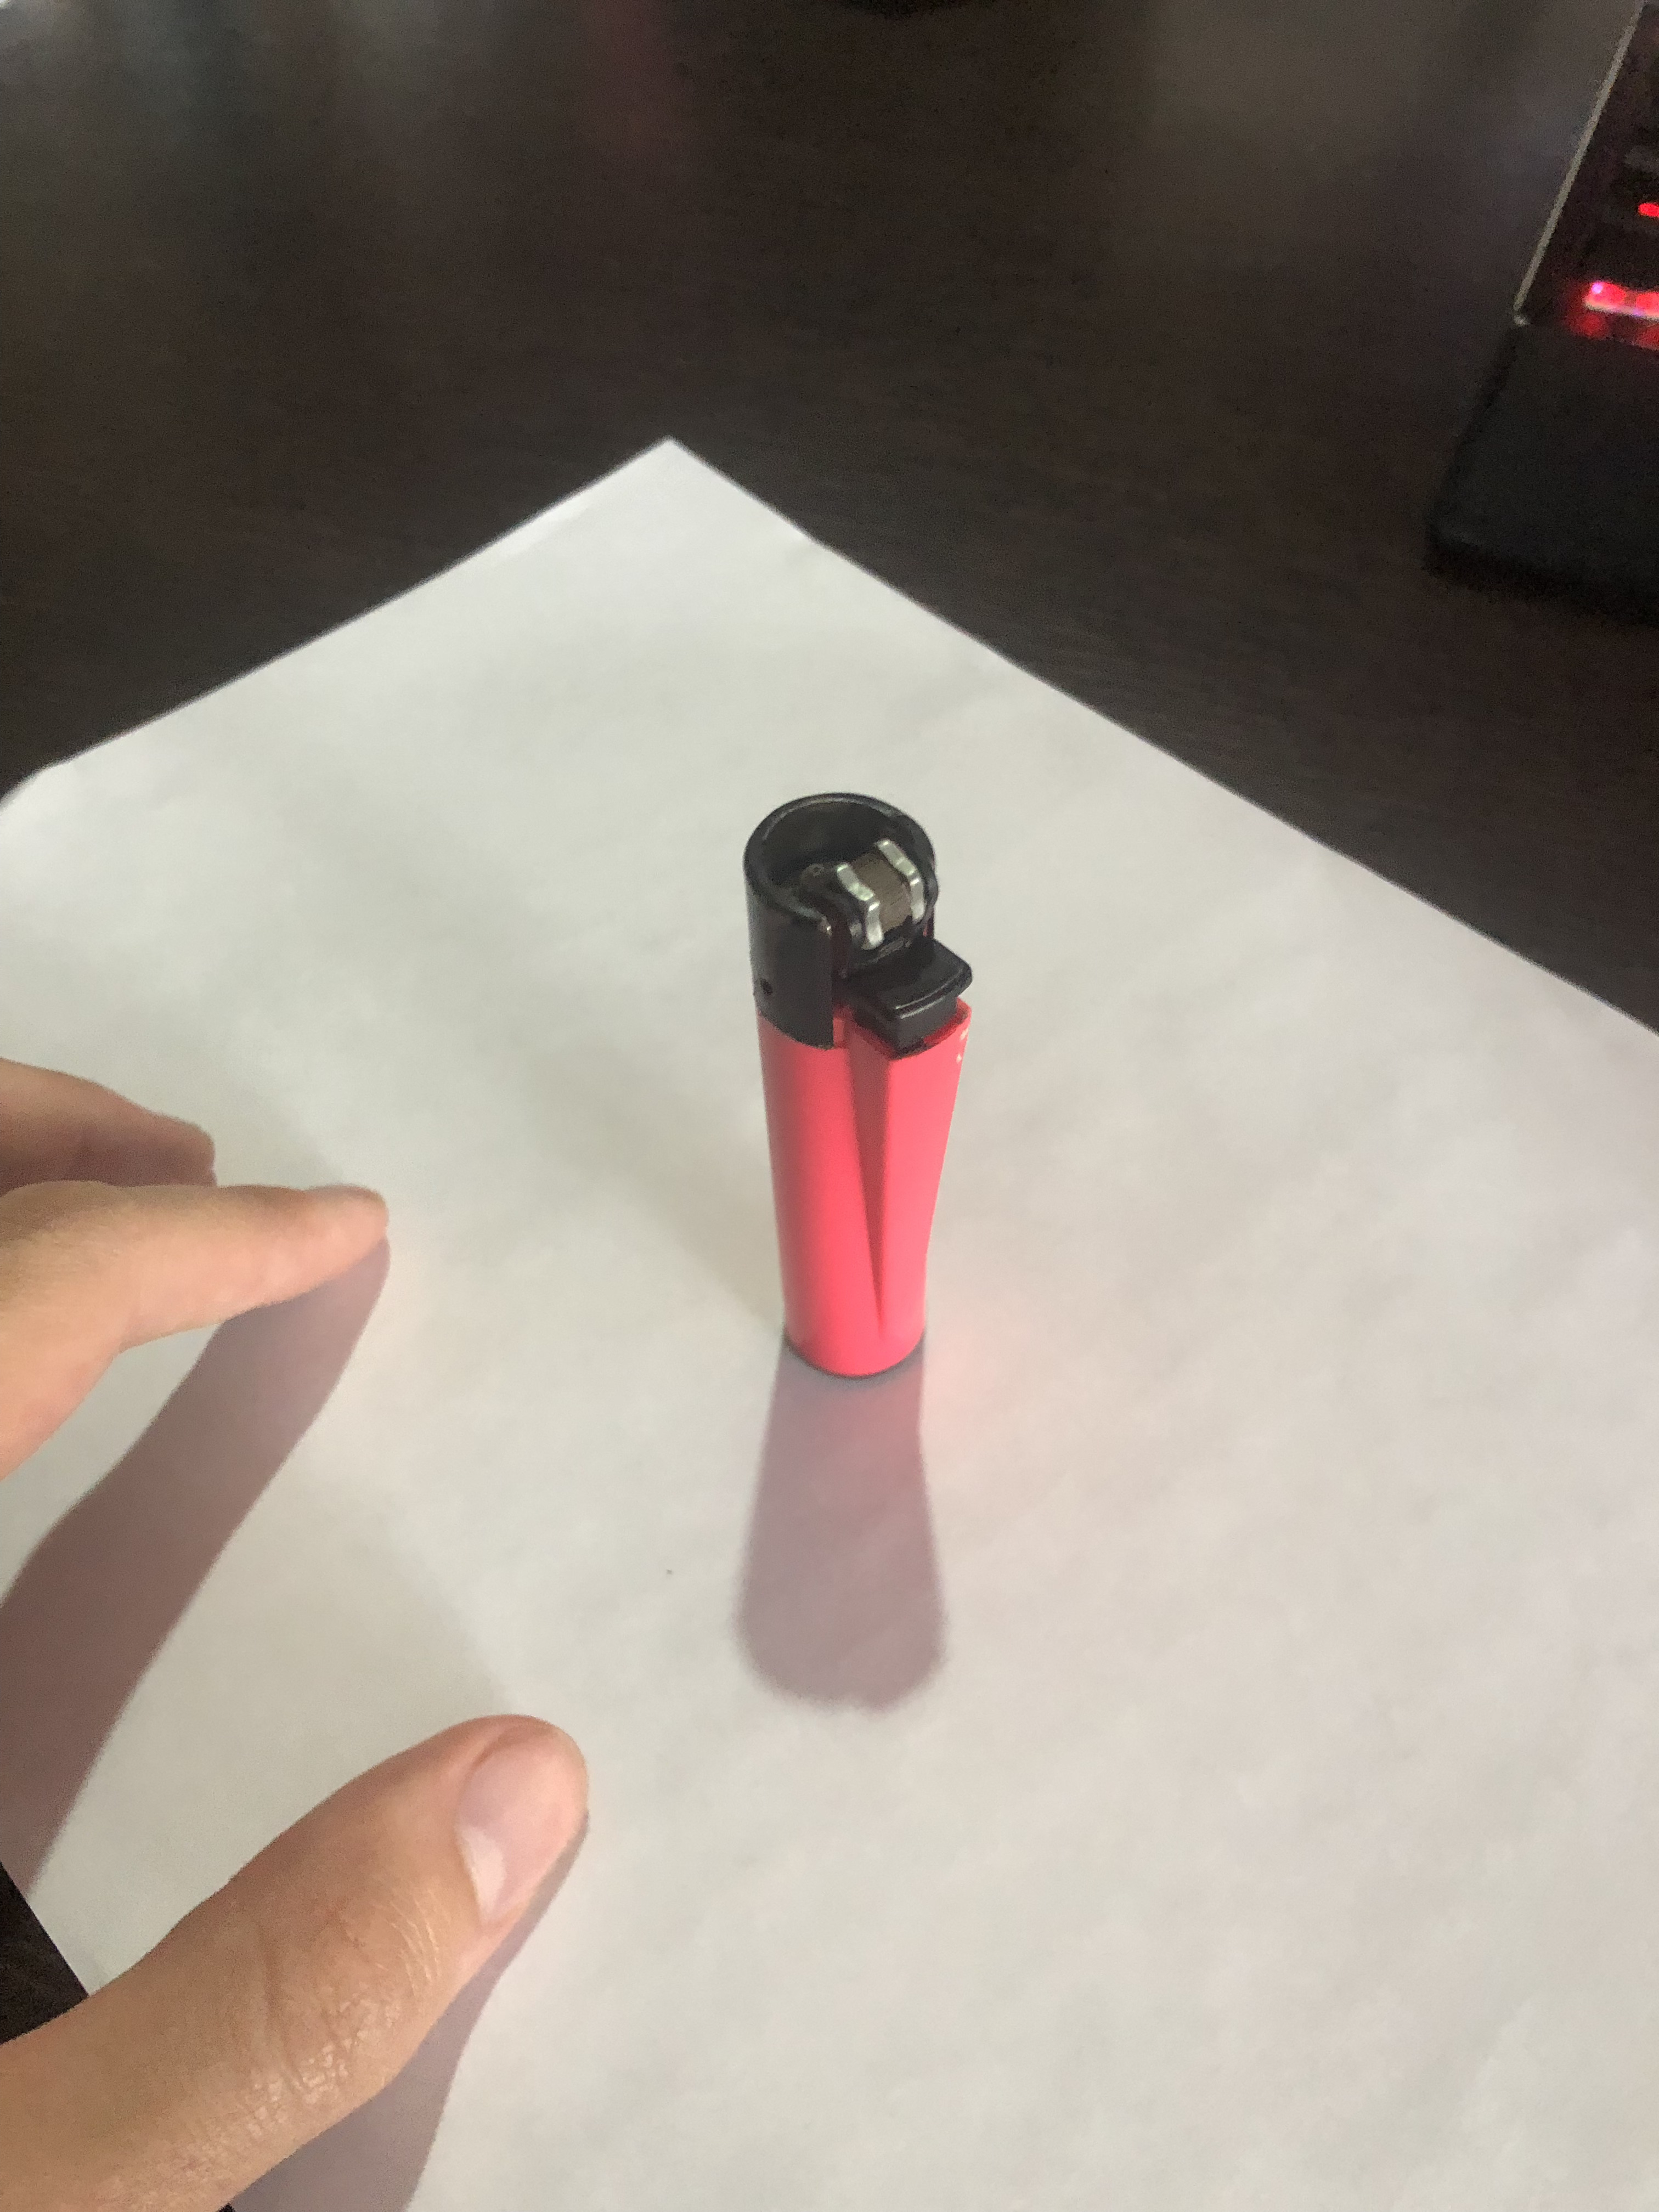Mechero: (702, 756, 1012, 1414)
